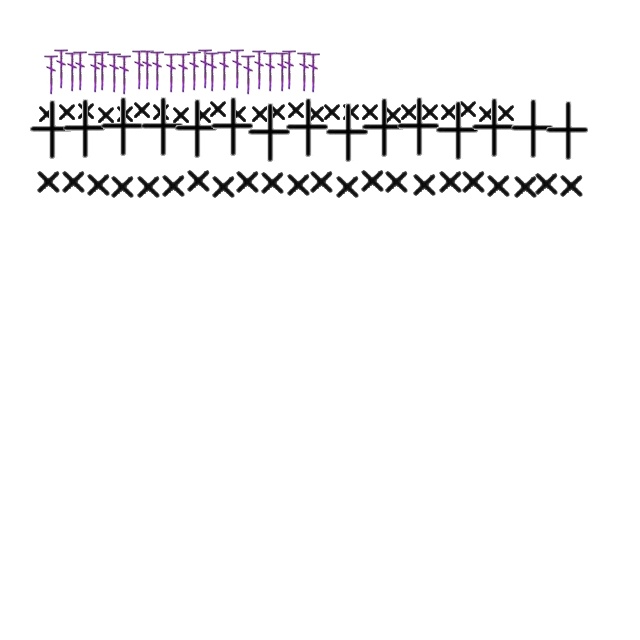double: (60, 99, 108, 159), (98, 97, 146, 157), (138, 97, 186, 157), (172, 99, 220, 159), (208, 97, 256, 157), (394, 97, 442, 157), (508, 99, 556, 159), (28, 100, 74, 160), (246, 103, 292, 163), (284, 98, 330, 158), (324, 103, 370, 163), (360, 98, 406, 158), (434, 101, 480, 161), (470, 98, 516, 158), (544, 101, 590, 161), (60, 167, 88, 195), (160, 171, 188, 199), (210, 172, 238, 200), (234, 167, 262, 195), (308, 167, 336, 195), (334, 172, 362, 200), (460, 167, 488, 195), (512, 172, 540, 200), (558, 171, 586, 199), (36, 167, 62, 195), (86, 170, 112, 198), (110, 172, 136, 200), (136, 172, 162, 200), (186, 166, 212, 194), (260, 168, 286, 196), (286, 170, 312, 198), (360, 166, 386, 194), (384, 167, 410, 195), (412, 170, 438, 198), (438, 167, 464, 195), (486, 171, 512, 199), (534, 169, 560, 197), (76, 100, 96, 122), (96, 104, 116, 126), (171, 104, 191, 126), (193, 104, 213, 126), (208, 98, 228, 120), (383, 104, 403, 126), (458, 98, 478, 120), (496, 102, 516, 124), (37, 104, 57, 124), (57, 102, 77, 122), (115, 104, 135, 124), (132, 100, 152, 120), (151, 102, 171, 122), (228, 104, 248, 124), (250, 104, 270, 124), (267, 102, 287, 122), (286, 100, 306, 120), (306, 104, 326, 124), (322, 102, 342, 122), (341, 102, 361, 122), (360, 102, 380, 122), (399, 102, 419, 122), (420, 102, 440, 122), (439, 102, 459, 122), (477, 104, 497, 124)
double treble: (44, 53, 58, 95), (54, 47, 68, 89), (65, 50, 79, 92), (73, 49, 87, 91), (88, 51, 102, 93), (95, 49, 109, 91), (107, 51, 121, 93), (117, 53, 131, 95), (132, 48, 146, 90), (140, 48, 154, 90), (150, 49, 164, 91), (164, 51, 178, 93), (176, 51, 190, 93), (187, 49, 201, 91), (198, 47, 212, 89), (205, 50, 219, 92), (217, 49, 231, 91), (230, 47, 244, 89), (241, 53, 255, 95), (252, 48, 266, 90), (263, 50, 277, 92), (275, 50, 289, 92), (282, 48, 296, 90), (297, 50, 311, 92), (306, 51, 320, 93)
